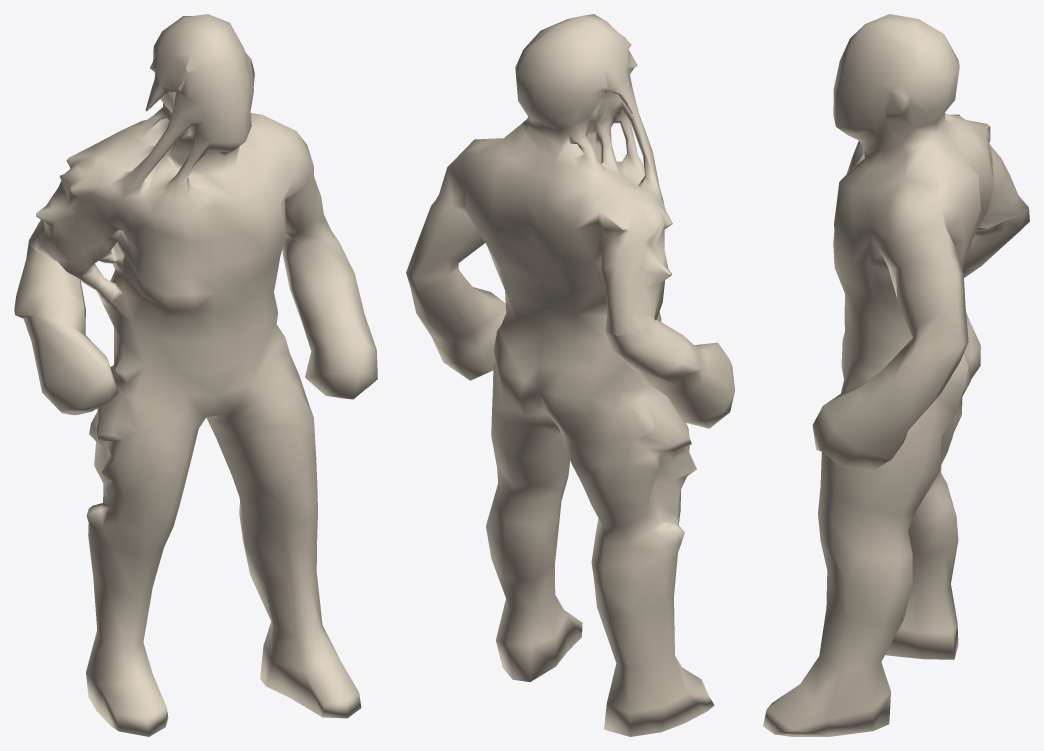
File: 244-prometheanoffspring.glb
The picture shows the model from 3 angles, left to right: view 1: azimuth 30°, elevation 25°; view 2: azimuth 150°, elevation 25°; view 3: azimuth 270°, elevation 25°; orthographic projection.
Bounding box in the file's own units: 1.08 × 2.24 × 0.8074.
